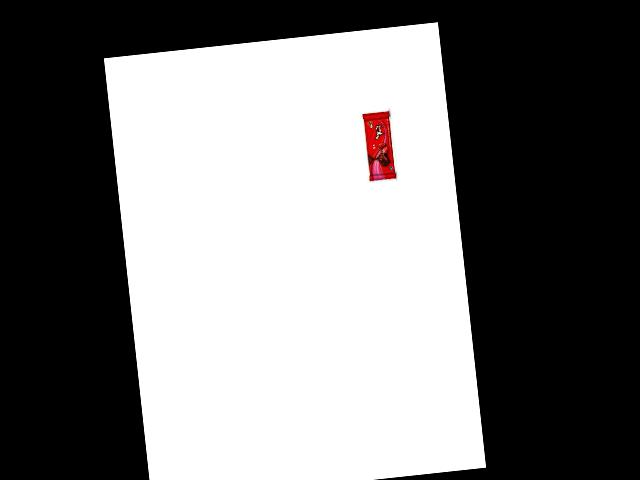chocolate: (362, 105, 401, 181)
